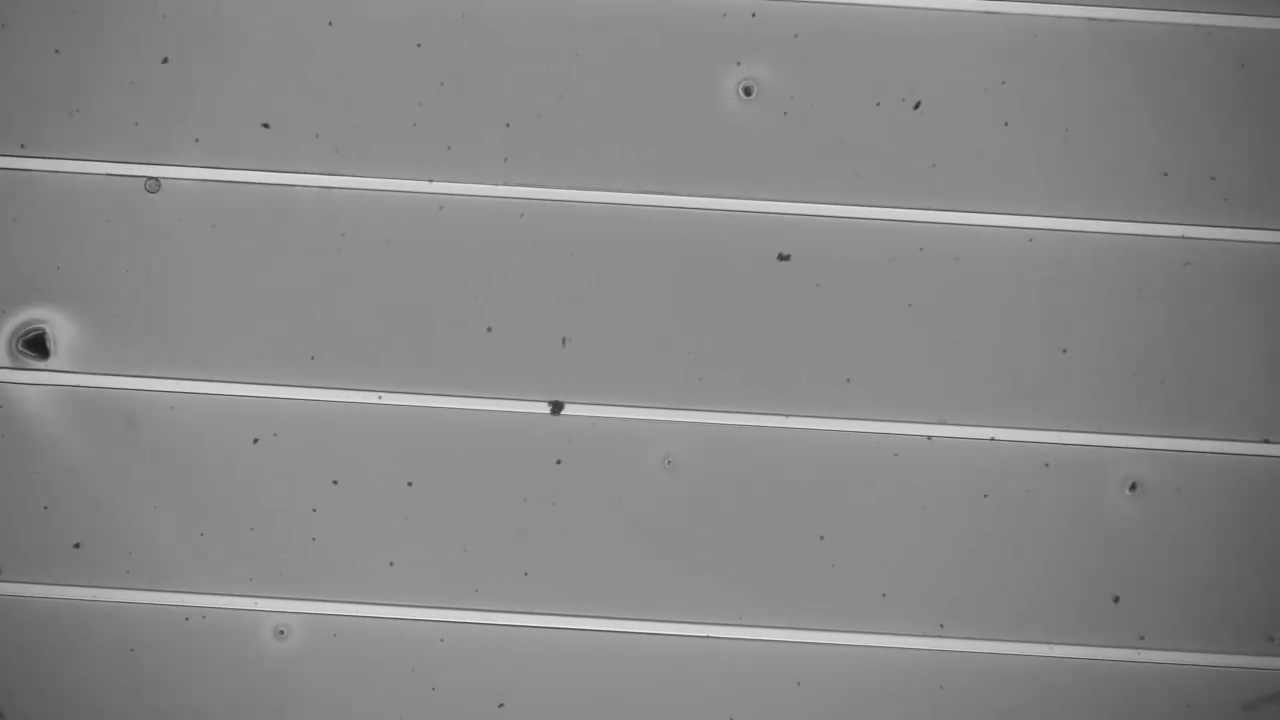stains_enbedded: (541, 393, 575, 427)
